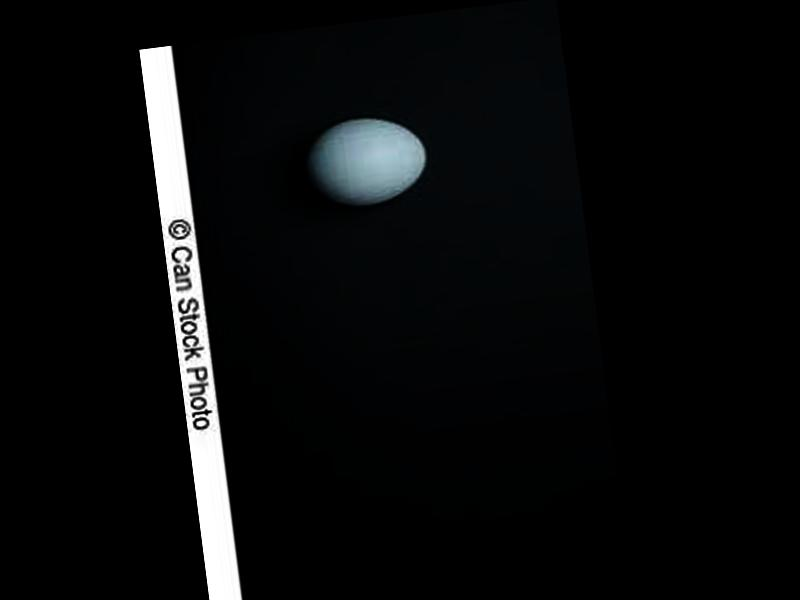Eggs: (301, 108, 432, 211)
